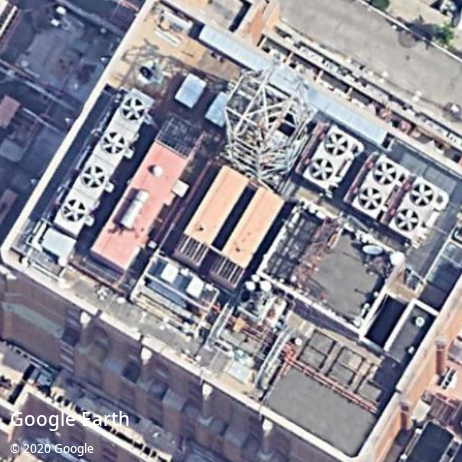Vent: (121, 98, 145, 121), (102, 132, 126, 155), (82, 165, 106, 188), (324, 133, 348, 156), (373, 162, 397, 185), (411, 183, 434, 207), (62, 199, 85, 222), (310, 158, 333, 181), (359, 187, 381, 210), (396, 209, 419, 231)
